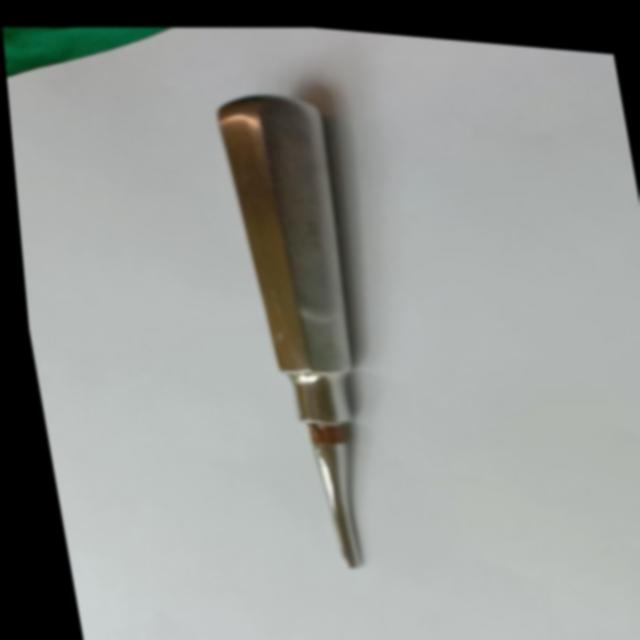Coupland1: (193, 77, 405, 579)
